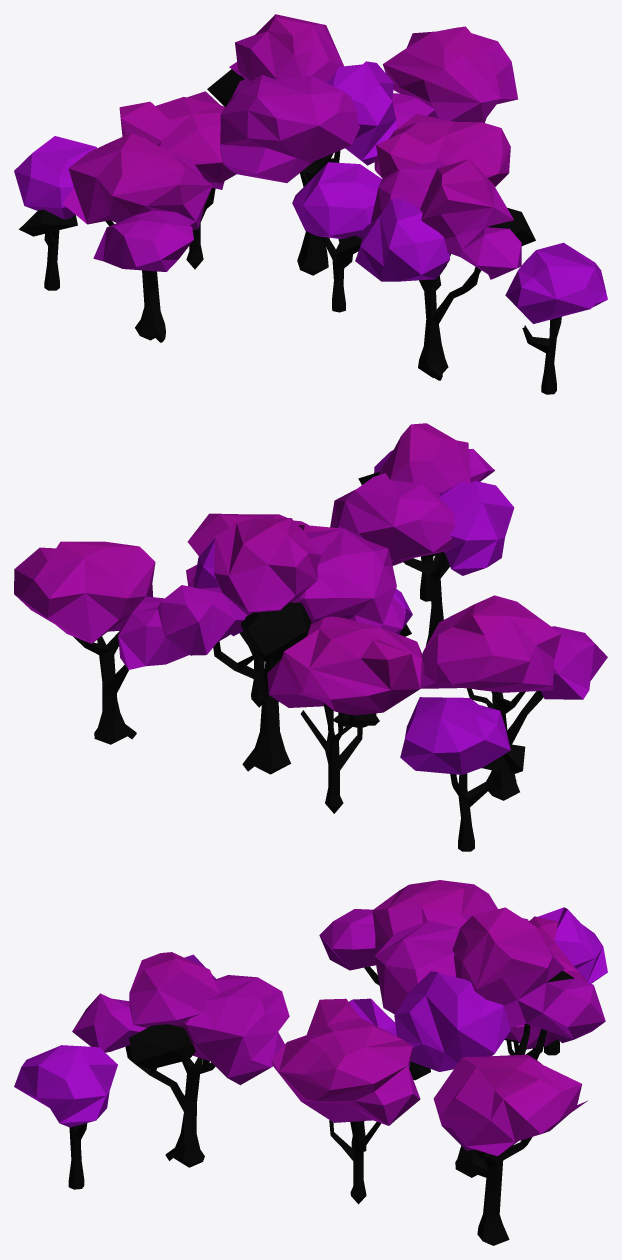
The model's file is SM_Env_Tree_Cluster_02.glb.
3 renders of one model, top to bottom at view 1: azimuth 30°, elevation 25°; view 2: azimuth 150°, elevation 25°; view 3: azimuth 270°, elevation 25°, orthographic. The views are drawn at different scales.
Parts seen in each view (by area): view 1: SM_Env_Tree_Cluster_02; view 2: SM_Env_Tree_Cluster_02; view 3: SM_Env_Tree_Cluster_02.
Part boxes in pixels (x1=…): SM_Env_Tree_Cluster_02: x1=14, y1=14, x2=607, y2=394; SM_Env_Tree_Cluster_02: x1=14, y1=423, x2=607, y2=851; SM_Env_Tree_Cluster_02: x1=14, y1=880, x2=607, y2=1245.
Size of the model in its own units: 19.86 by 9.96 by 20.64.
